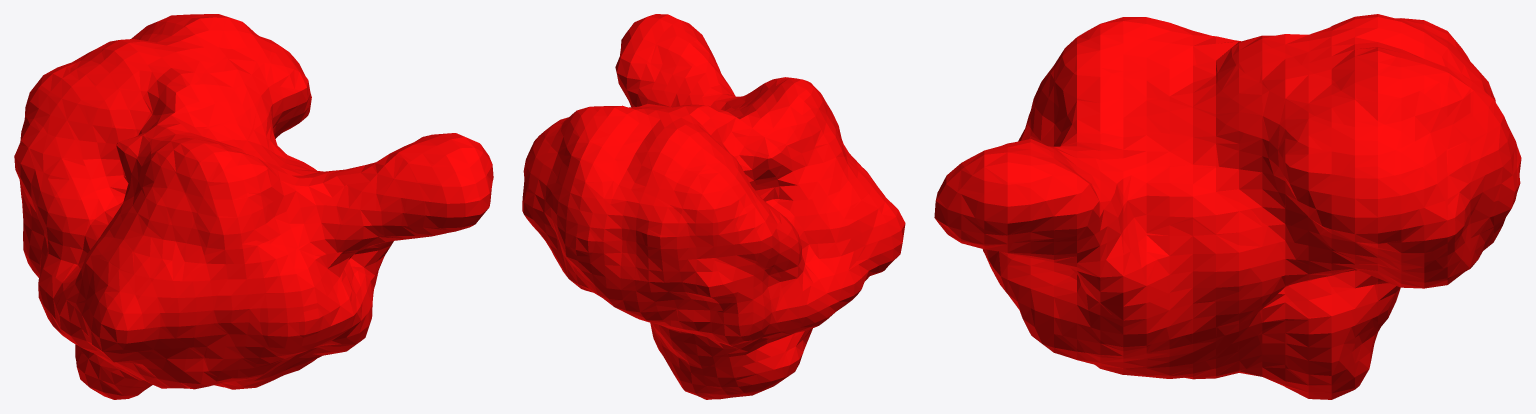
The model's file is puuC_coarse.dae.
3 renders of one model, left to right at view 1: azimuth 30°, elevation 25°; view 2: azimuth 150°, elevation 25°; view 3: azimuth 270°, elevation 25°, orthographic. The views are drawn at different scales.
Parts seen in each view (by area): view 1: puuC; view 2: puuC; view 3: puuC.
Boxes of the visible parts, x1=… form: puuC: x1=14, y1=14, x2=493, y2=399; puuC: x1=522, y1=14, x2=905, y2=399; puuC: x1=934, y1=14, x2=1521, y2=399.
Bounding box in the file's own units: 65.17 × 57.61 × 77.02.
